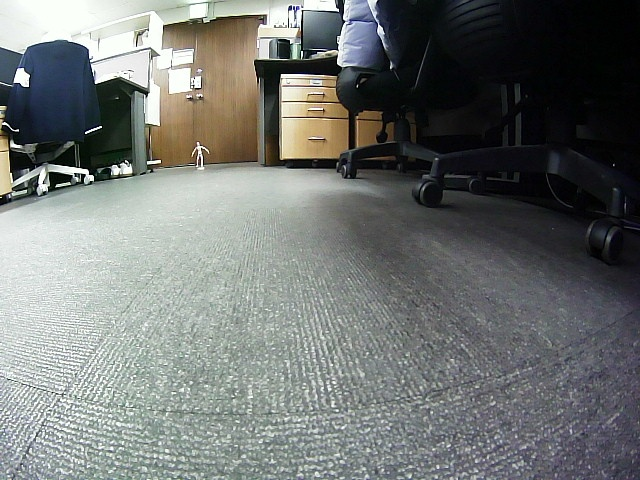person: (190, 139, 209, 167)
